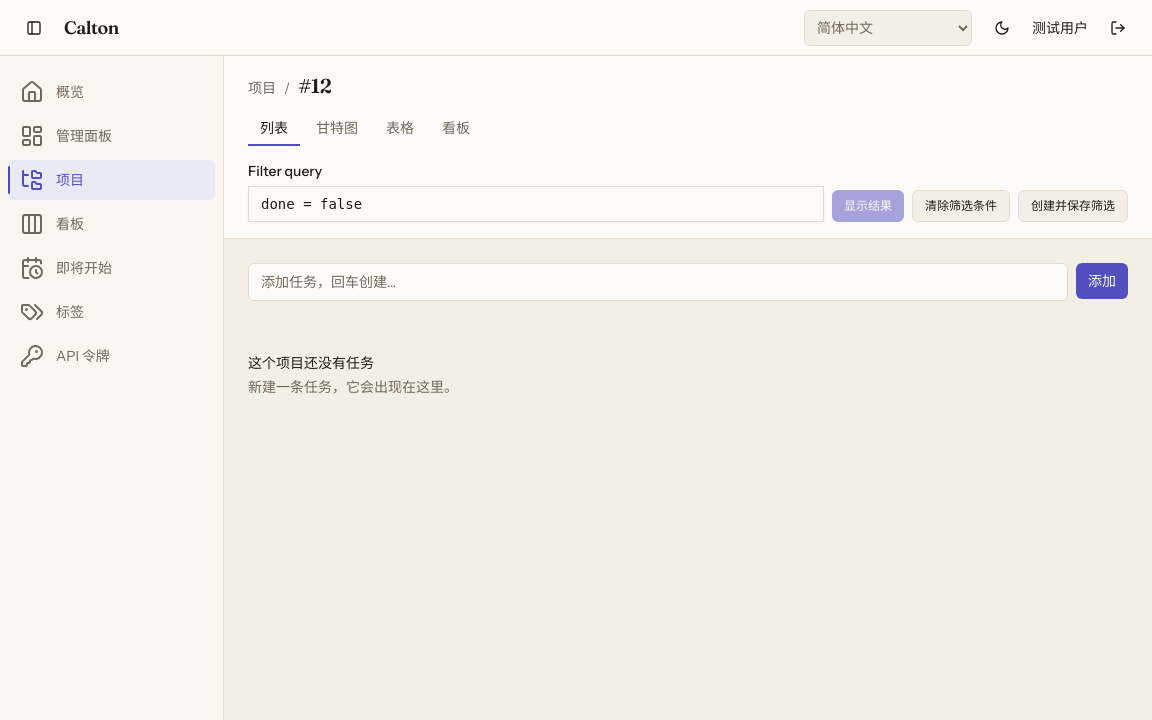
新建保存的筛选器 › ★ 重新打开时取当前的筛选表达式，不是上次那份
expect the form with test id "filter-bar" is shown: met, box [248,158,1128,222]
Click the button with test id "save-filter-button": point(1073, 206) [1018,190,1128,222]
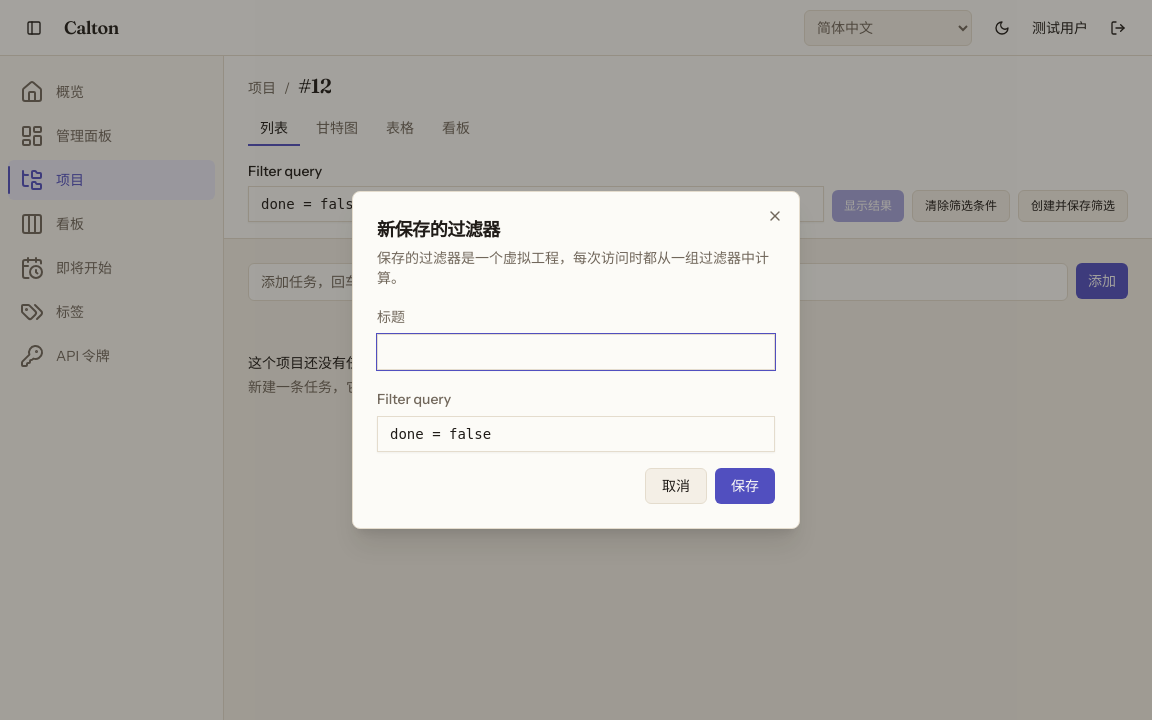
expect the field with test id "filter-expression-input" holds "done = false": met, box [377,416,775,452]
Click the button with test id "filter-save-cancel": point(676, 486) [645,468,707,504]
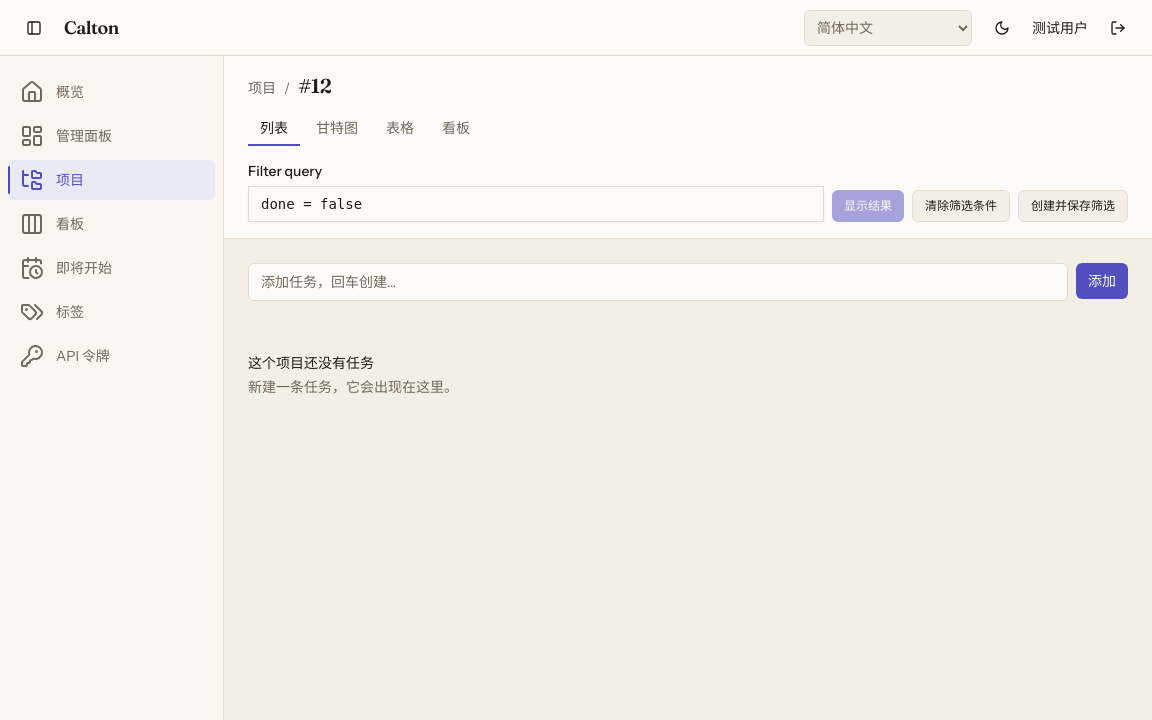
expect the dialog with test id "saved-filter-form" is gone: met
Replace the text in the field labelled "Filter query" with "priority >= 3": point(536, 204) [248,186,824,222]
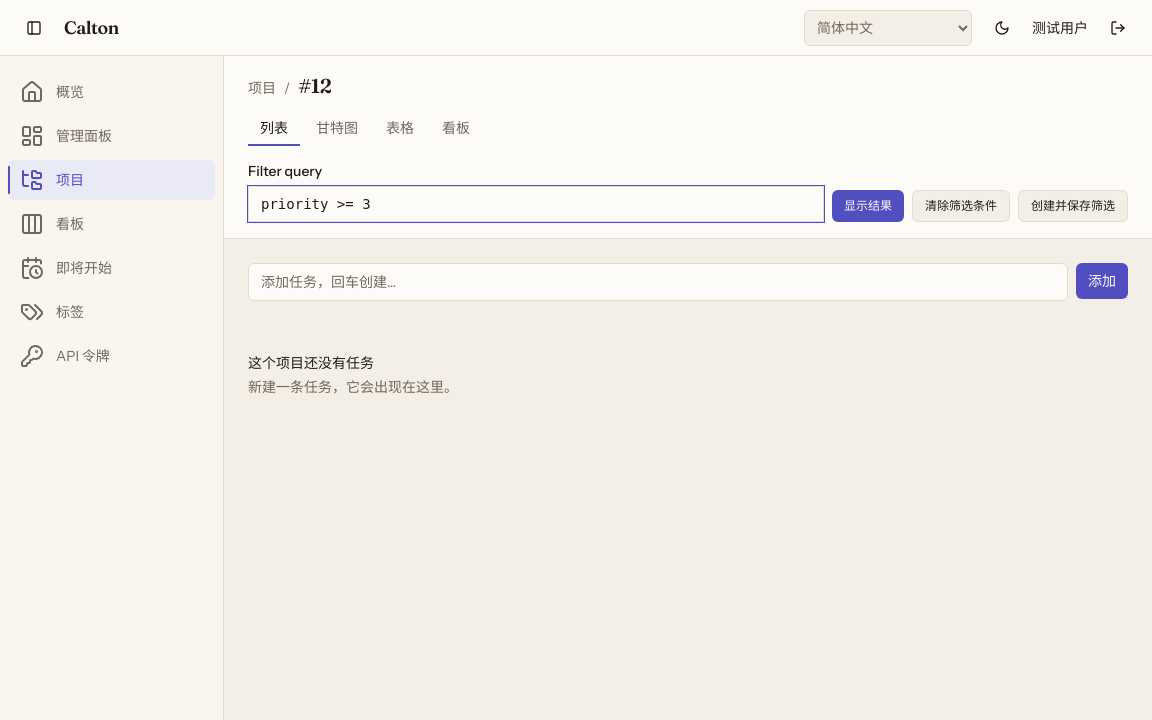
Click the button with test id "save-filter-button": point(1073, 206) [1018,190,1128,222]
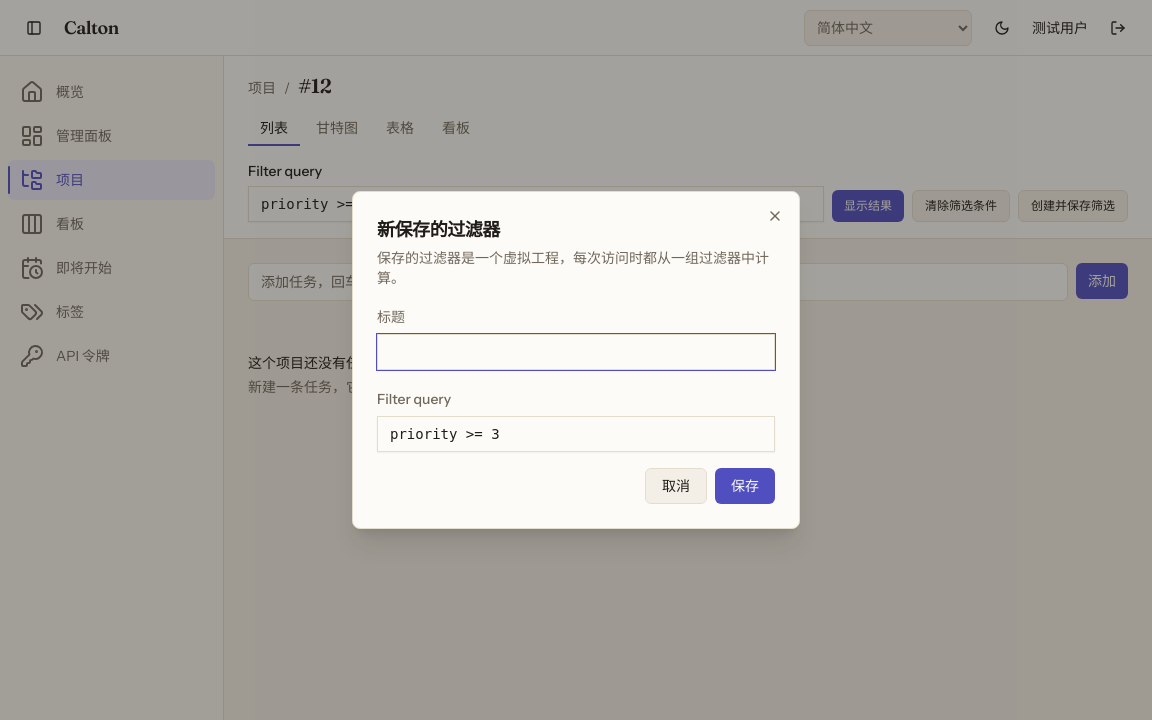
expect the field with test id "filter-expression-input" holds "priority >= 3": met, box [377,416,775,452]
